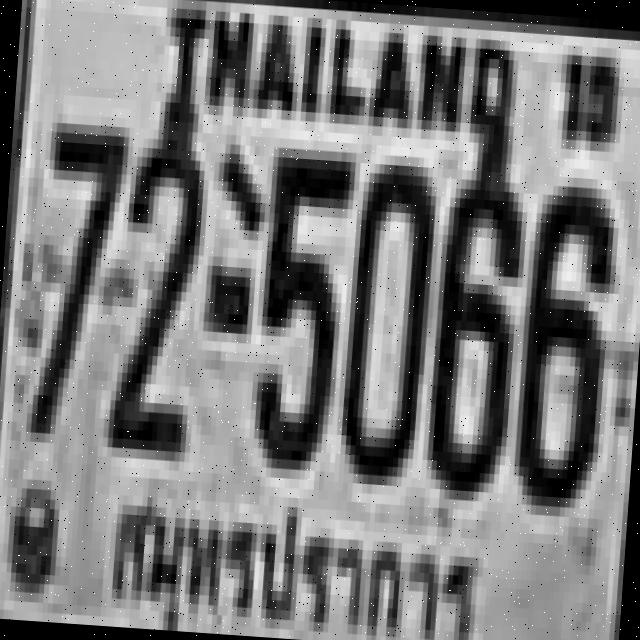0: (334, 152, 434, 478)
2: (104, 118, 204, 452)
5: (247, 137, 352, 462)
6: (507, 174, 612, 499), (420, 159, 520, 493)
7: (25, 112, 125, 438)
SamutPrakan: (94, 468, 498, 640)
